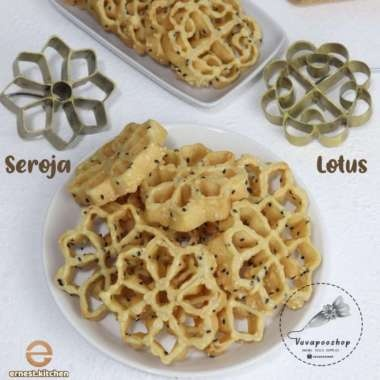kembang_goyang: (99, 235, 219, 354)
